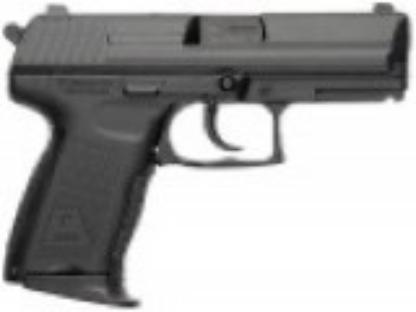pistol: (0, 0, 400, 296)
